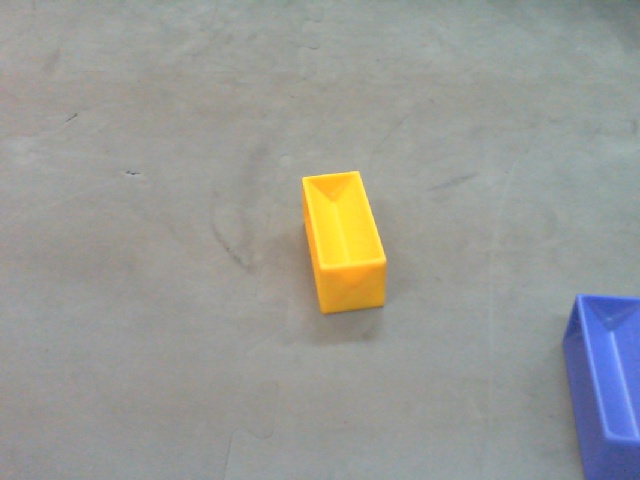BlueSample: (560, 290, 640, 480)
YellowSample: (298, 169, 389, 318)
